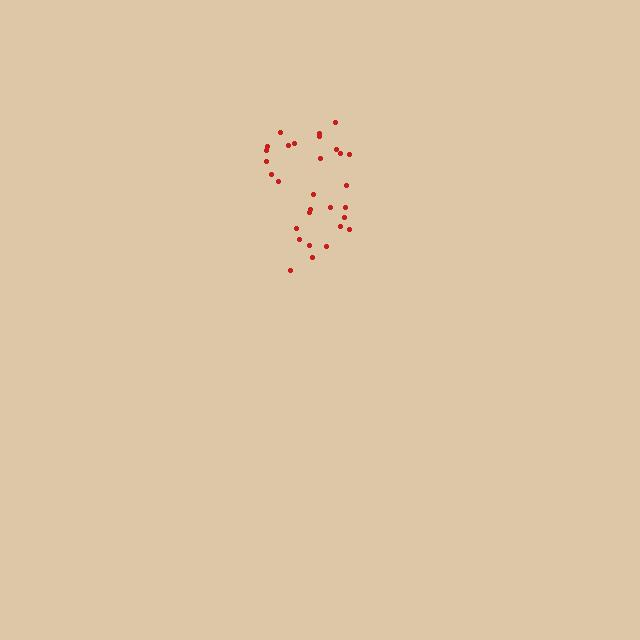abrasion: (263, 114, 352, 279)
